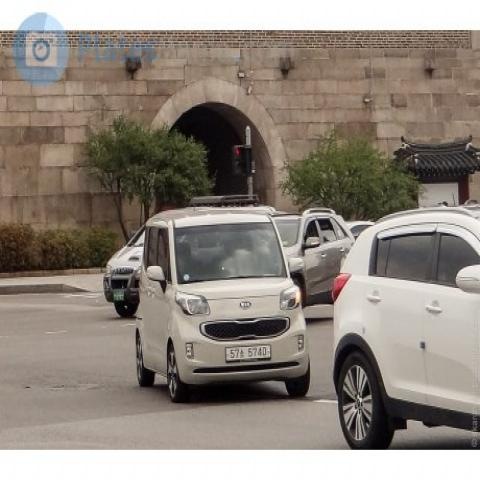LP: (225, 336, 273, 366)
